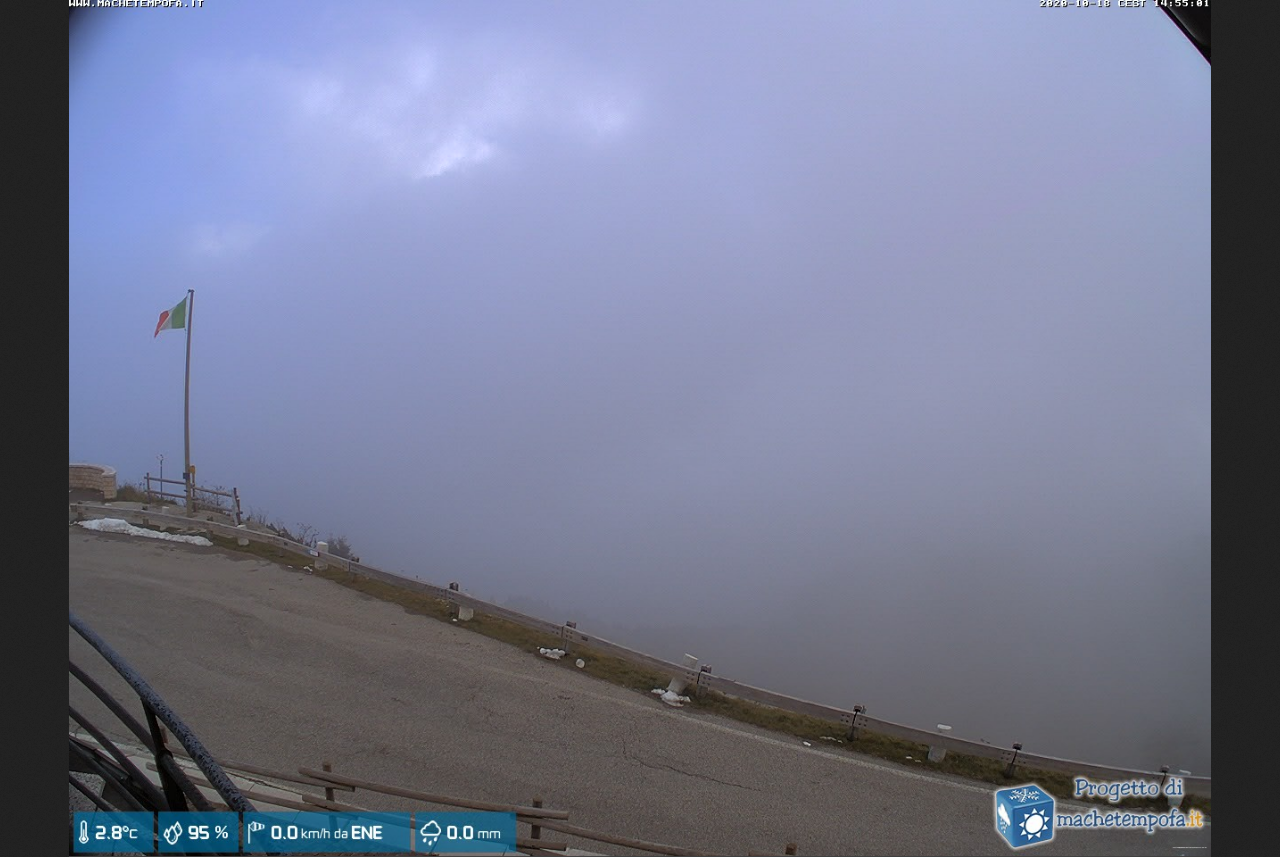yes: (152, 294, 186, 336)
